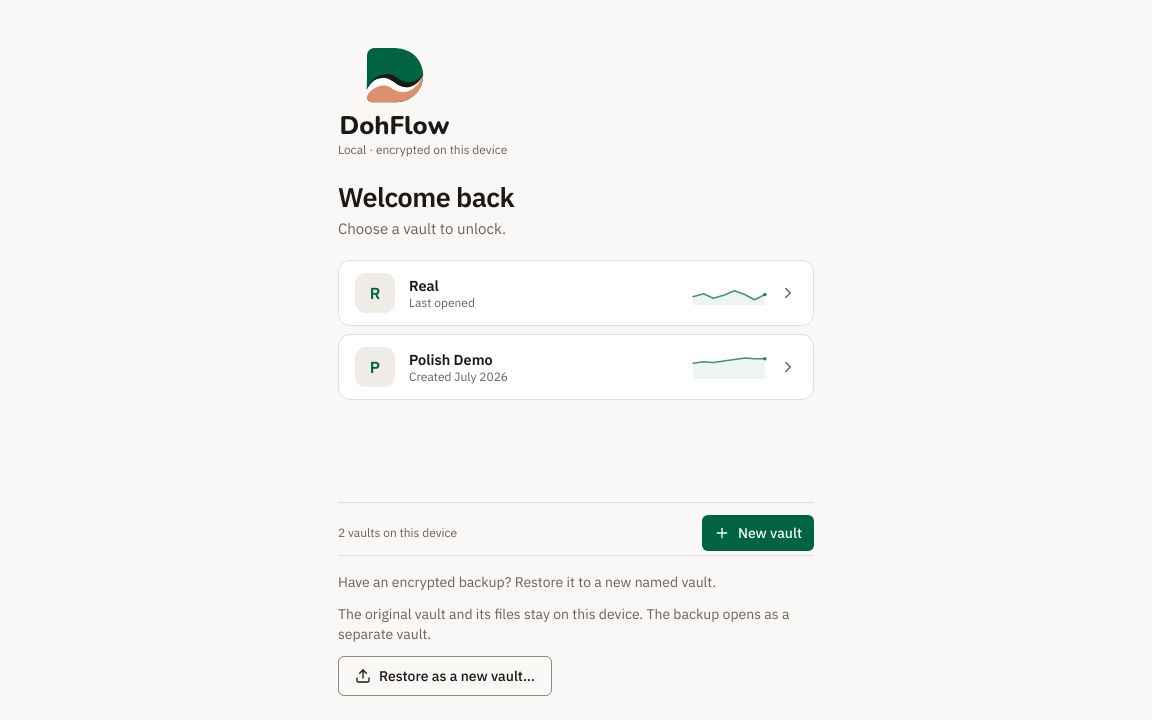
Test case: clicking another vault switches to it first, then asks for ITS password
Click the button "P Polish Demo Created July 2026" at (375, 367), box [338,334,814,400]
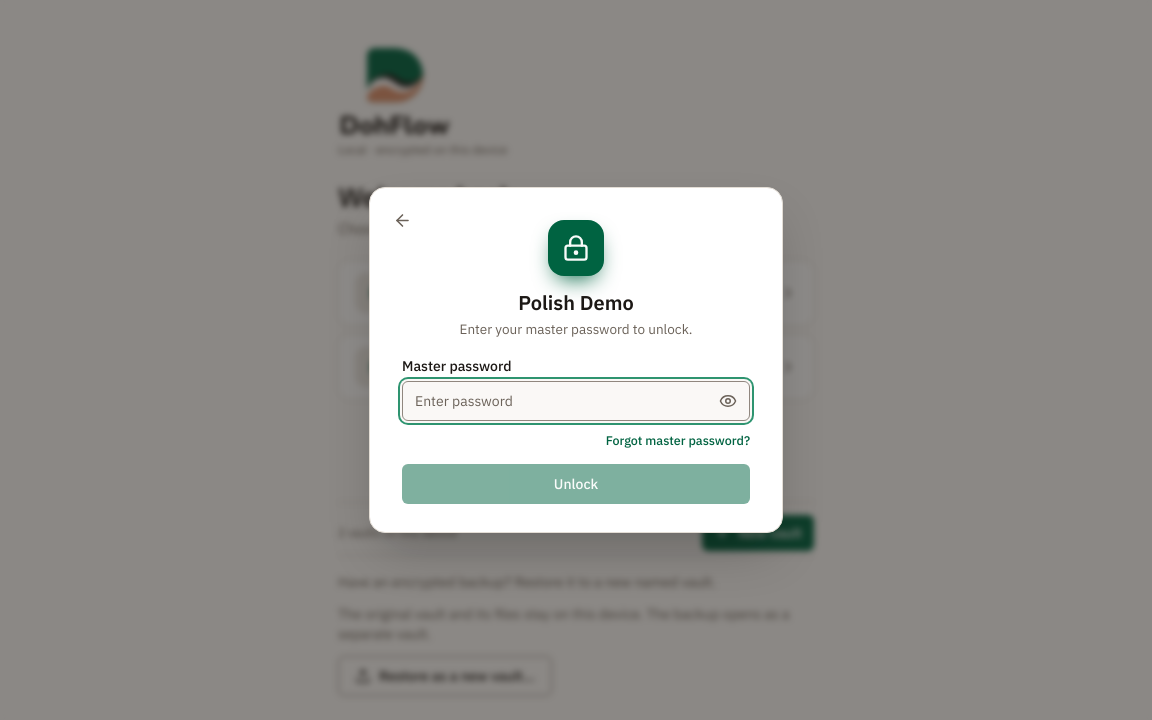
Now the dialog named "unlock polish demo" is shown
